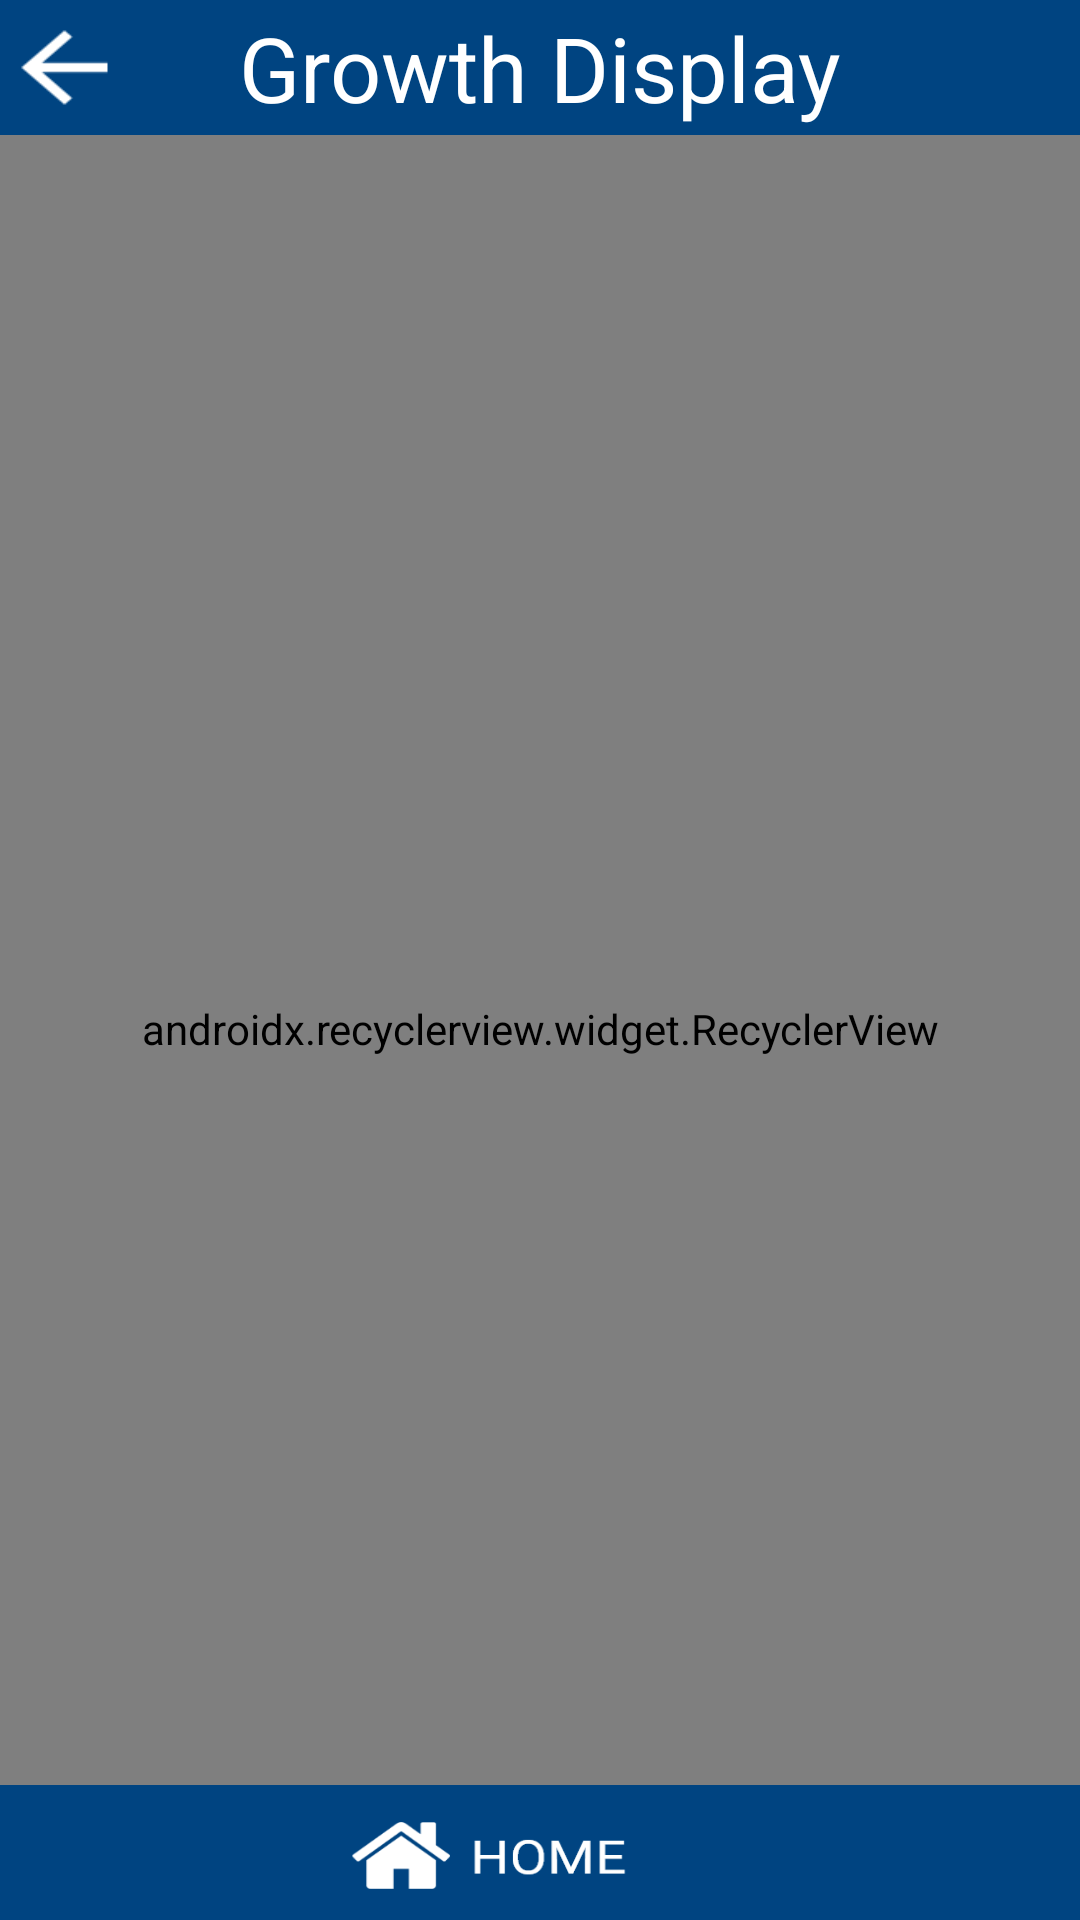

Icon bounding boxes for this 1080x1920 phone screenshot, format rect(x1, y1, x2, y2):
back: rect(21, 30, 108, 105)
